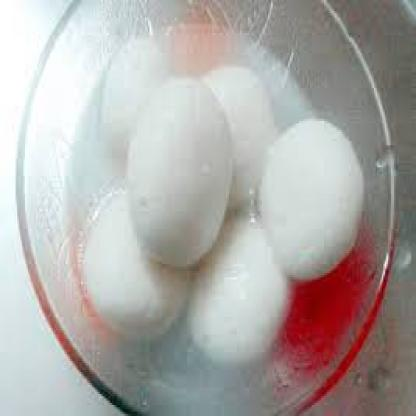rasgulla: (128, 77, 233, 262), (259, 119, 364, 279), (83, 195, 192, 340), (188, 215, 292, 365), (200, 65, 277, 198), (102, 35, 167, 153)
